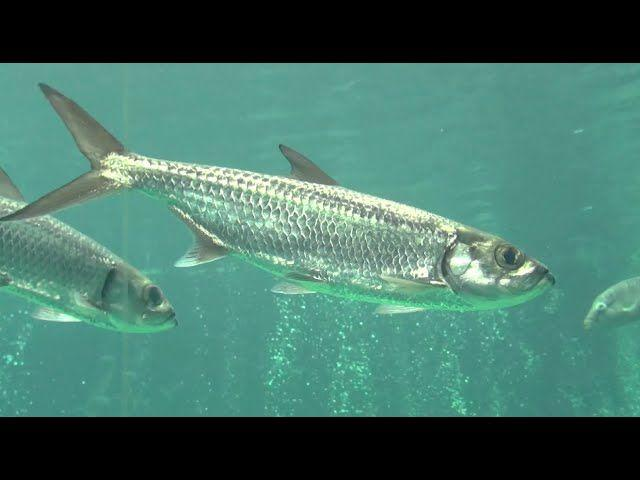Indo-Pacific Tarpon: (0, 81, 556, 320), (0, 173, 182, 336)
